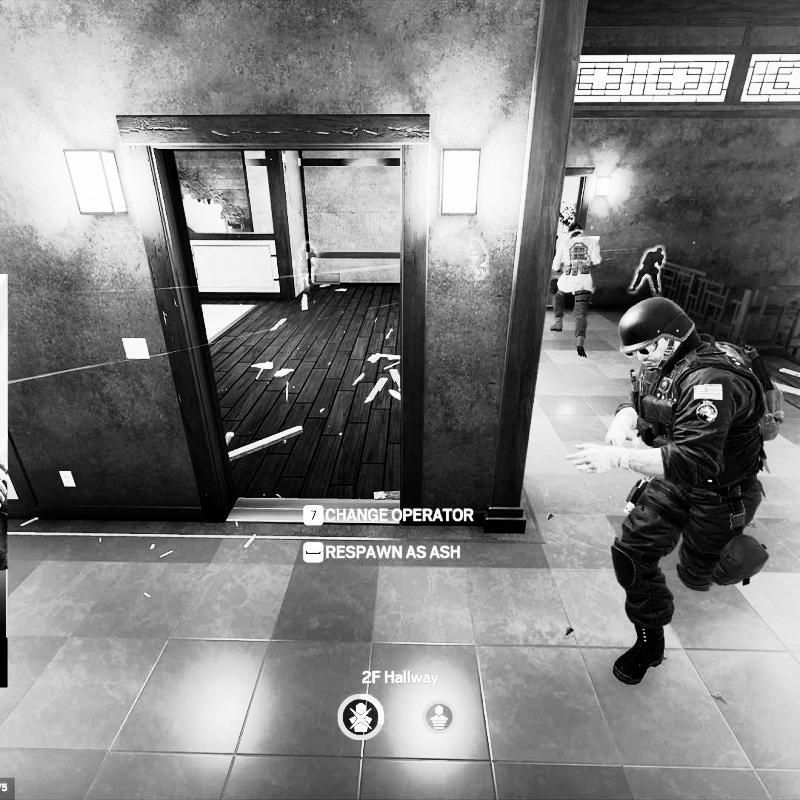Character: (572, 295, 787, 694), (551, 218, 600, 363)
Head: (614, 296, 698, 371), (564, 220, 584, 241)
